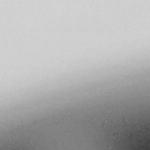colony: (25, 117, 123, 150)
